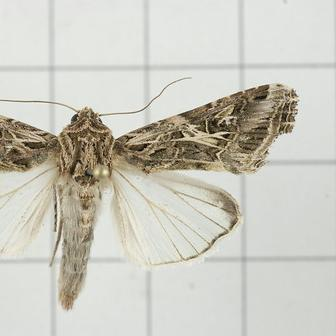Spodoptera litura: (1, 77, 300, 313)
